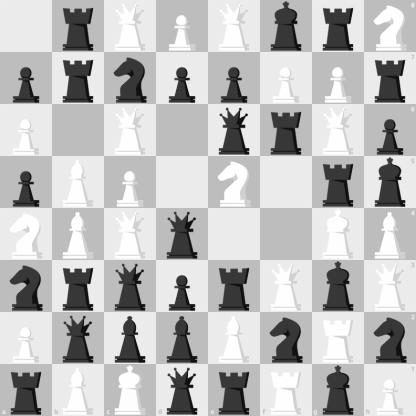B: (52, 364, 104, 416), (364, 209, 416, 260), (53, 157, 104, 208), (53, 209, 104, 260), (209, 313, 260, 364)
K: (104, 364, 156, 416), (313, 209, 364, 260)
N: (364, 0, 416, 52), (1, 209, 52, 260), (209, 157, 260, 208)
P: (364, 364, 416, 416), (1, 105, 52, 156), (1, 313, 52, 364), (105, 157, 156, 208), (157, 1, 208, 52), (261, 53, 312, 104), (313, 53, 364, 104)
Q: (364, 260, 416, 312), (105, 1, 156, 52), (105, 105, 156, 156), (105, 209, 156, 260), (209, 1, 260, 52), (261, 261, 312, 312), (313, 105, 364, 156)
R: (260, 364, 312, 416), (313, 313, 364, 364)
b: (105, 313, 156, 364), (157, 313, 208, 364)
board: (0, 0, 415, 415)
k: (364, 156, 416, 209), (312, 364, 364, 416), (261, 1, 312, 52), (313, 261, 364, 312)
n: (364, 312, 416, 364), (1, 261, 52, 312), (105, 53, 156, 104), (261, 313, 312, 364)
p: (364, 104, 416, 156), (1, 53, 52, 104), (1, 157, 52, 208), (157, 53, 208, 104), (157, 261, 208, 312), (209, 53, 260, 104)
q: (156, 364, 209, 416), (53, 313, 104, 364), (105, 261, 156, 312), (157, 209, 208, 260), (209, 105, 260, 156)
r: (0, 364, 52, 416), (364, 52, 416, 104), (209, 364, 260, 416), (53, 1, 104, 52), (53, 53, 104, 104), (53, 261, 104, 312), (209, 261, 260, 312), (261, 105, 312, 156), (313, 1, 364, 52), (313, 157, 364, 208)
